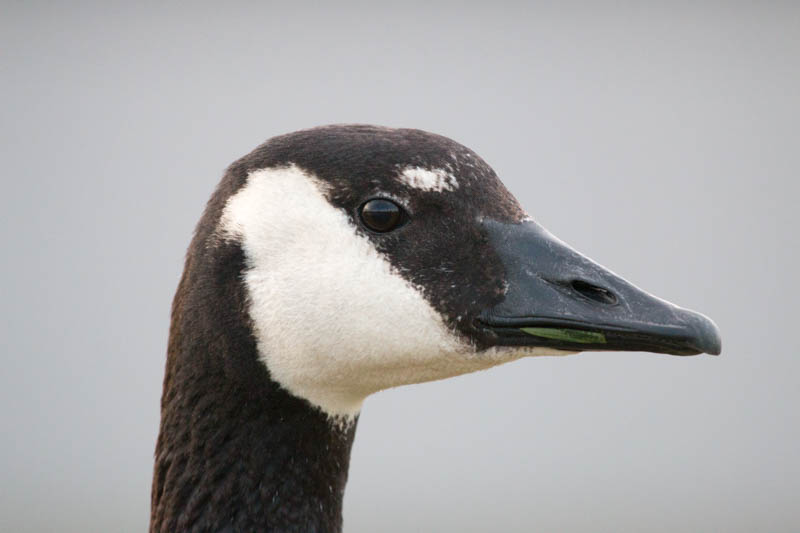goose-head: (167, 125, 721, 426)
